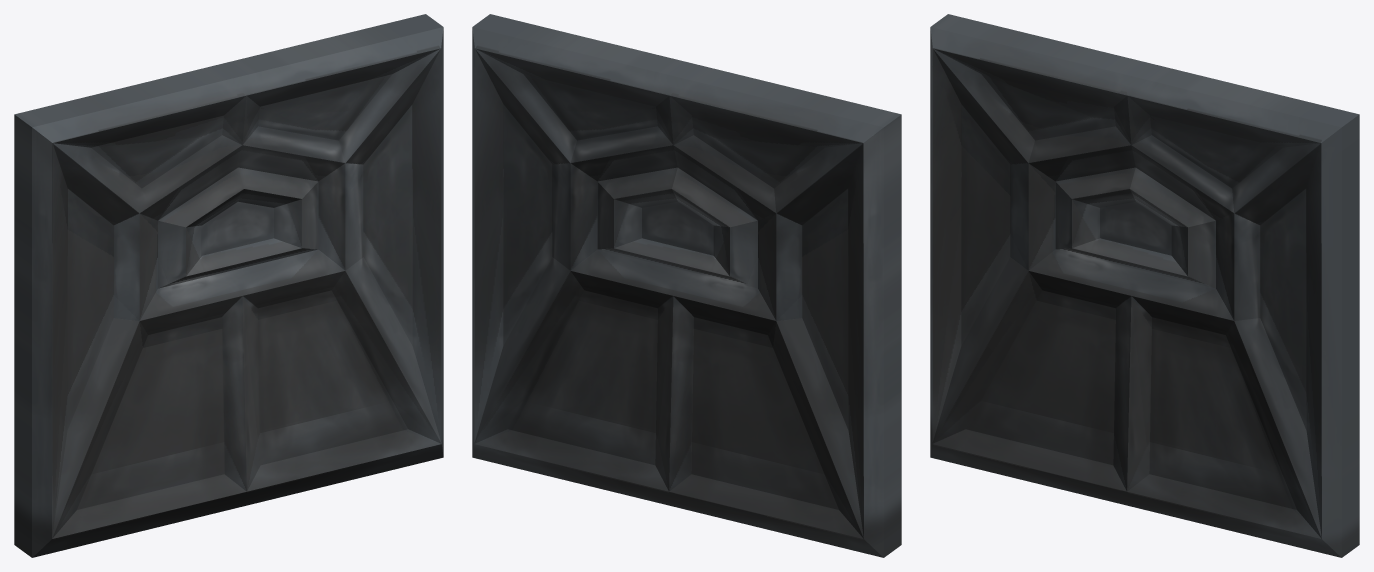
The model's file is Wall.glb.
The picture shows the model from 3 angles, left to right: view 1: azimuth 30°, elevation 25°; view 2: azimuth 150°, elevation 25°; view 3: azimuth 330°, elevation 25°; orthographic projection.
Parts seen in each view (by area): view 1: wall1; view 2: wall1; view 3: wall1.
Part boxes in pixels (left/top/right/bottom): wall1: left=14, top=14, right=443, bottom=557; wall1: left=472, top=14, right=901, bottom=557; wall1: left=930, top=14, right=1359, bottom=557.
Bounding box in the file's own units: 4 × 4 × 0.6036.
1 material, 1 textured.
